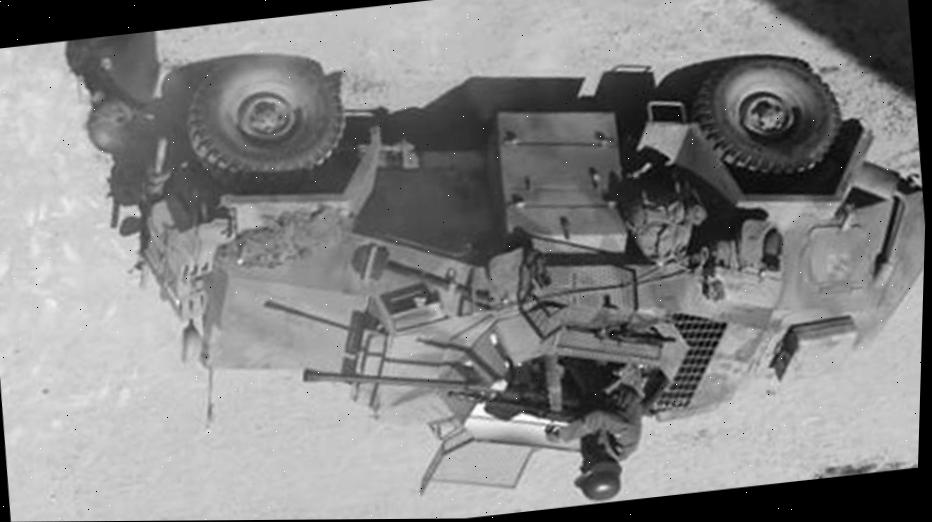armored_car: (75, 0, 932, 521)
